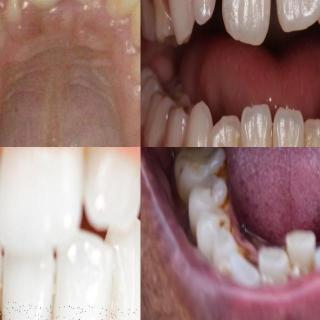maligned: (45, 230, 115, 320), (273, 0, 320, 44), (258, 240, 294, 288), (203, 113, 247, 147), (284, 221, 312, 271), (125, 0, 140, 50), (189, 0, 213, 28), (3, 0, 29, 24), (311, 229, 320, 274)
stains: (237, 248, 259, 274), (216, 212, 238, 235), (212, 156, 228, 186), (214, 184, 230, 212), (222, 237, 250, 253)
